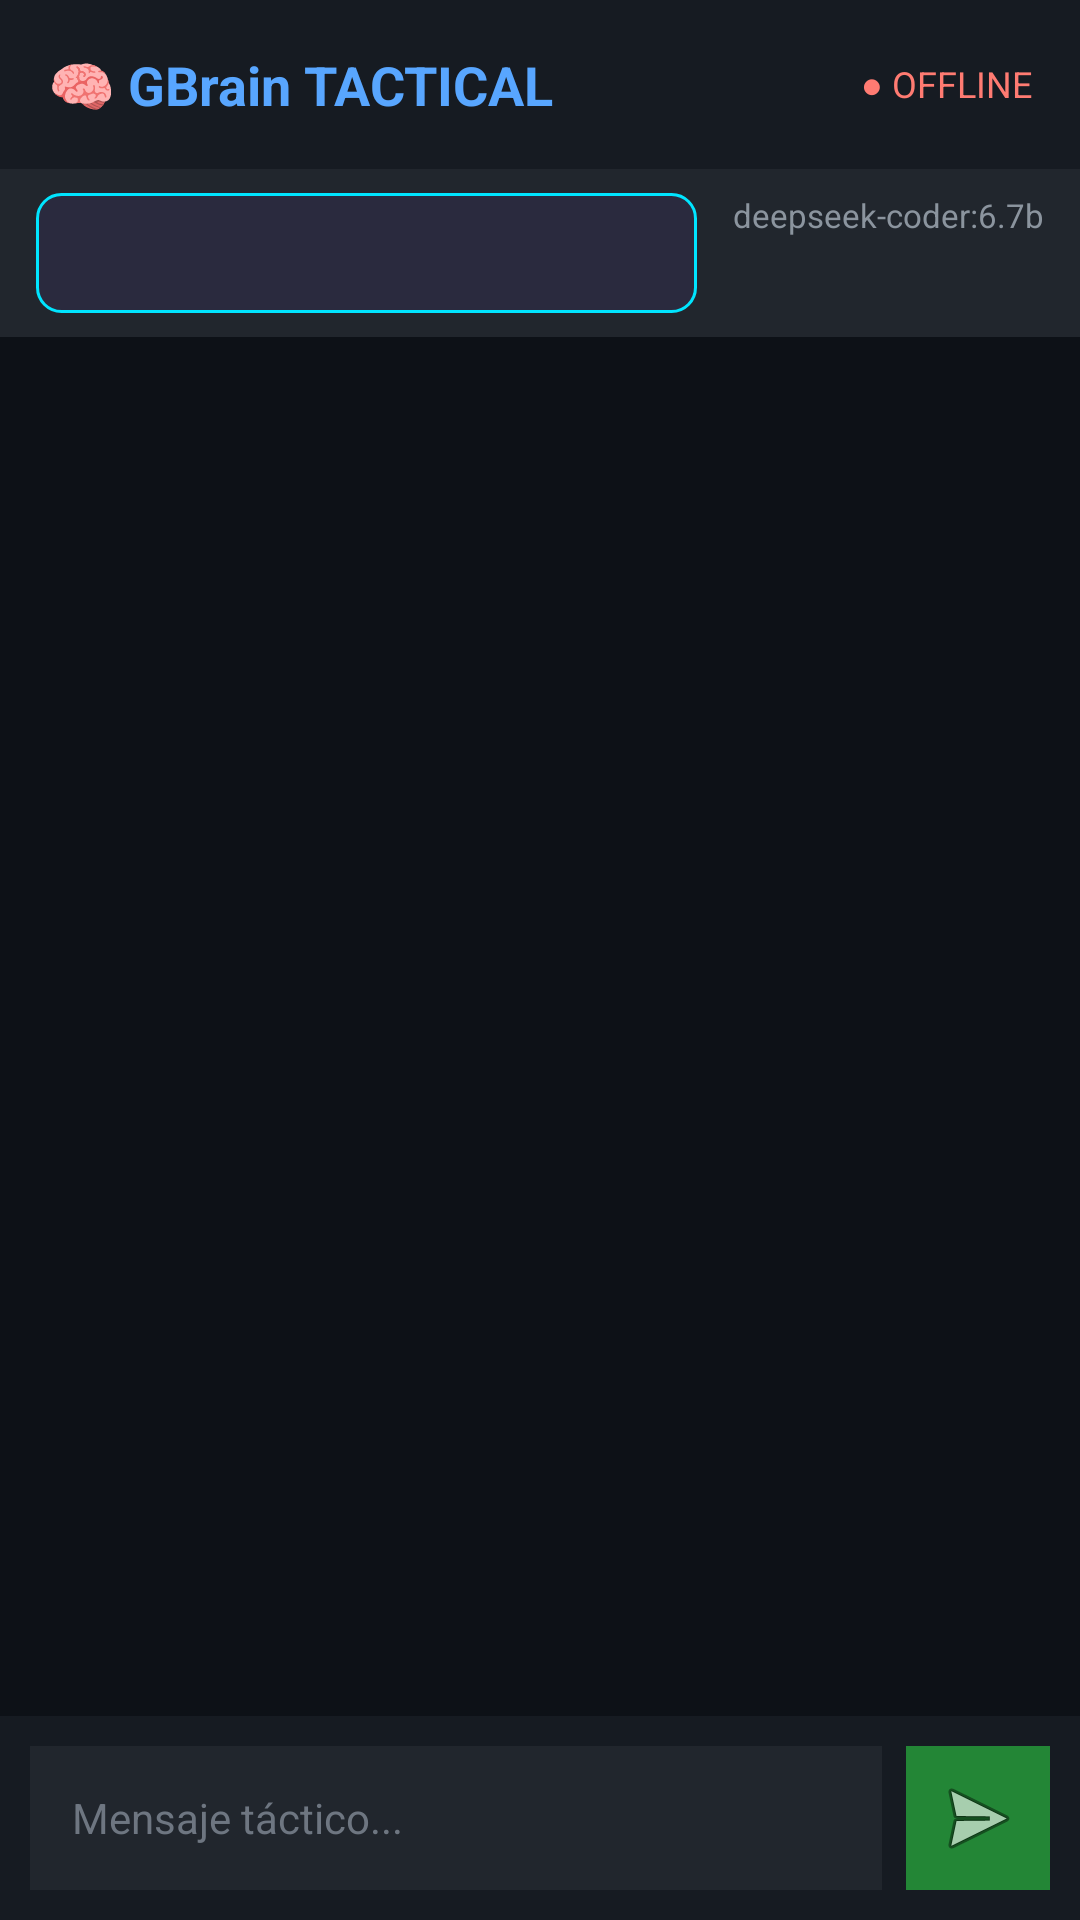

Icon bounding boxes for this 1080*1920 phone screenshot, format {"left": x1, "top": y1, "right": x2, "bottom": y2}:
Enviar: {"left": 906, "top": 1746, "right": 1050, "bottom": 1890}
